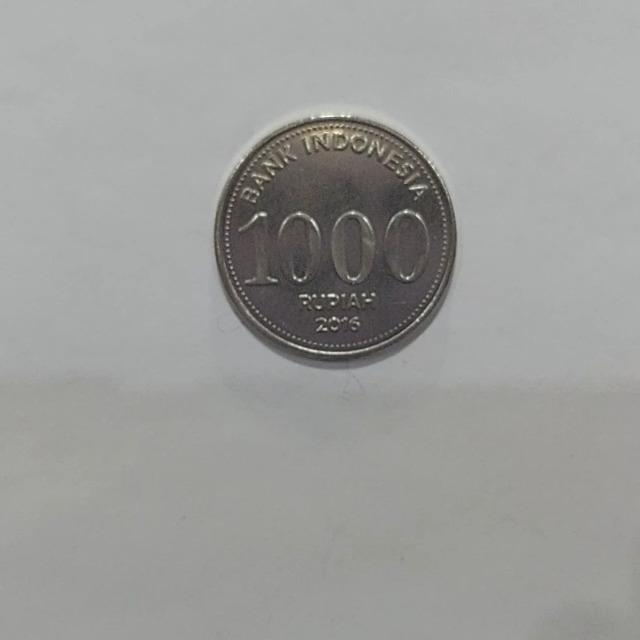Rp100: (212, 109, 458, 367)
